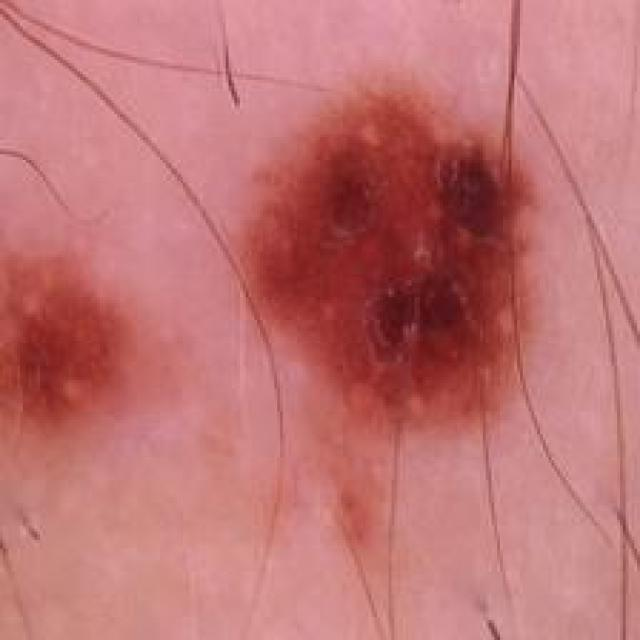Cancer: (0, 80, 640, 439)
